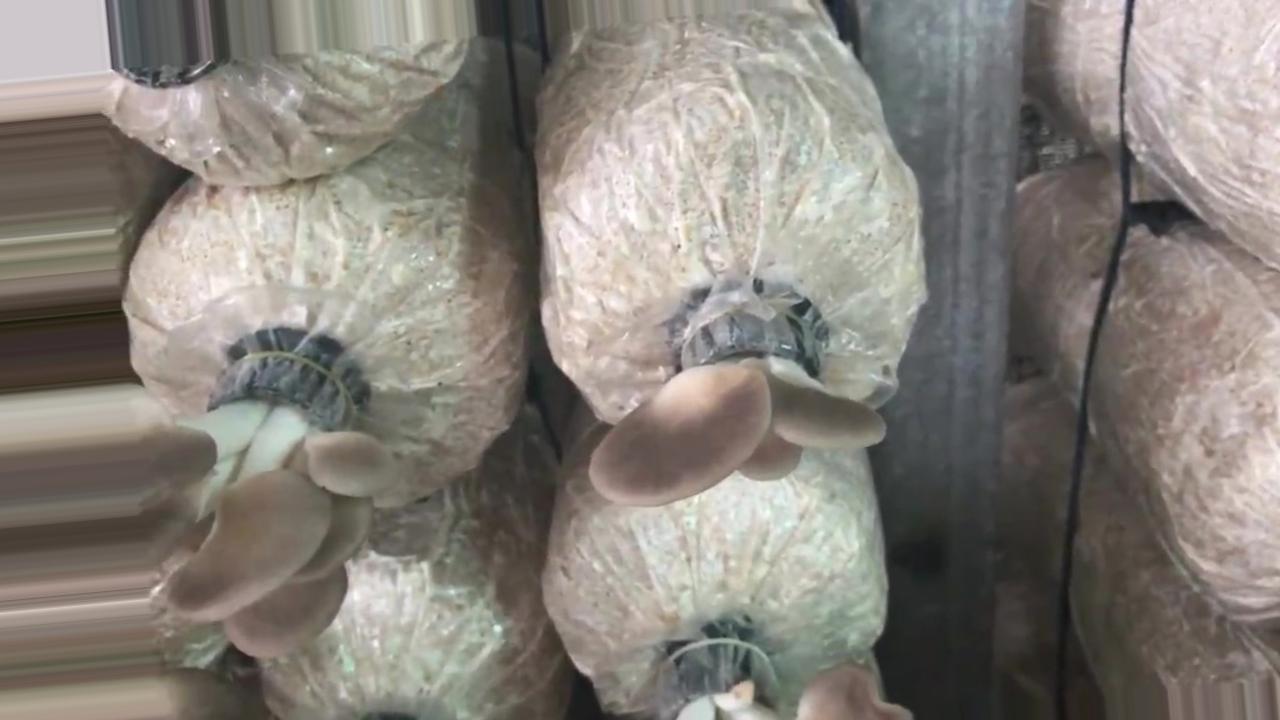nam: (3, 360, 370, 662), (599, 298, 882, 499)
